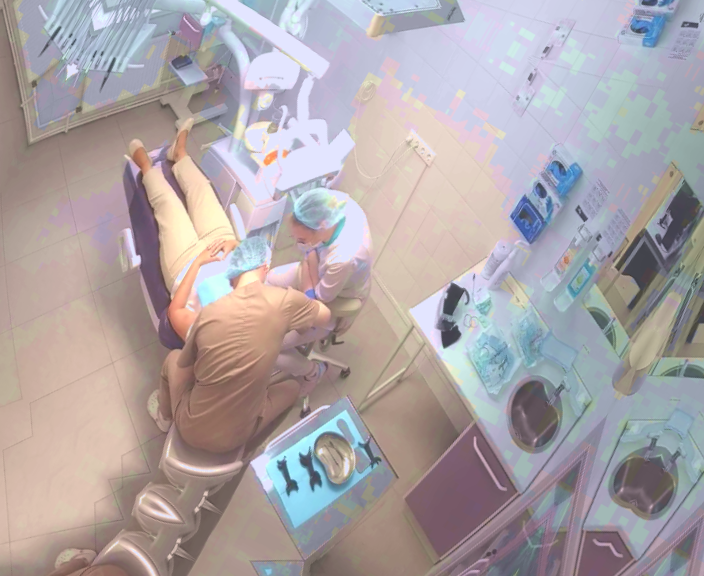Patient: (38, 95, 368, 422)
